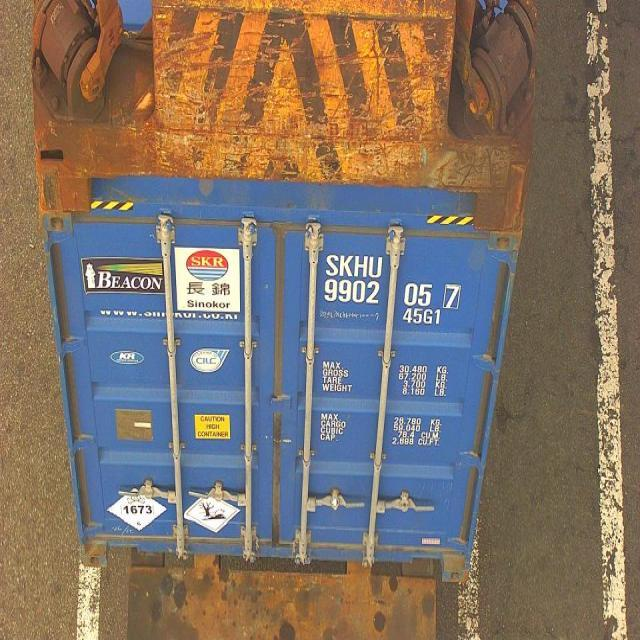ISO: (406, 308, 444, 328)
container_number: (323, 254, 463, 306)
